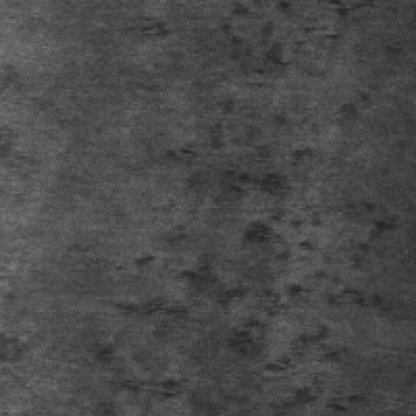rolled-in_scale: (187, 91, 379, 412)
